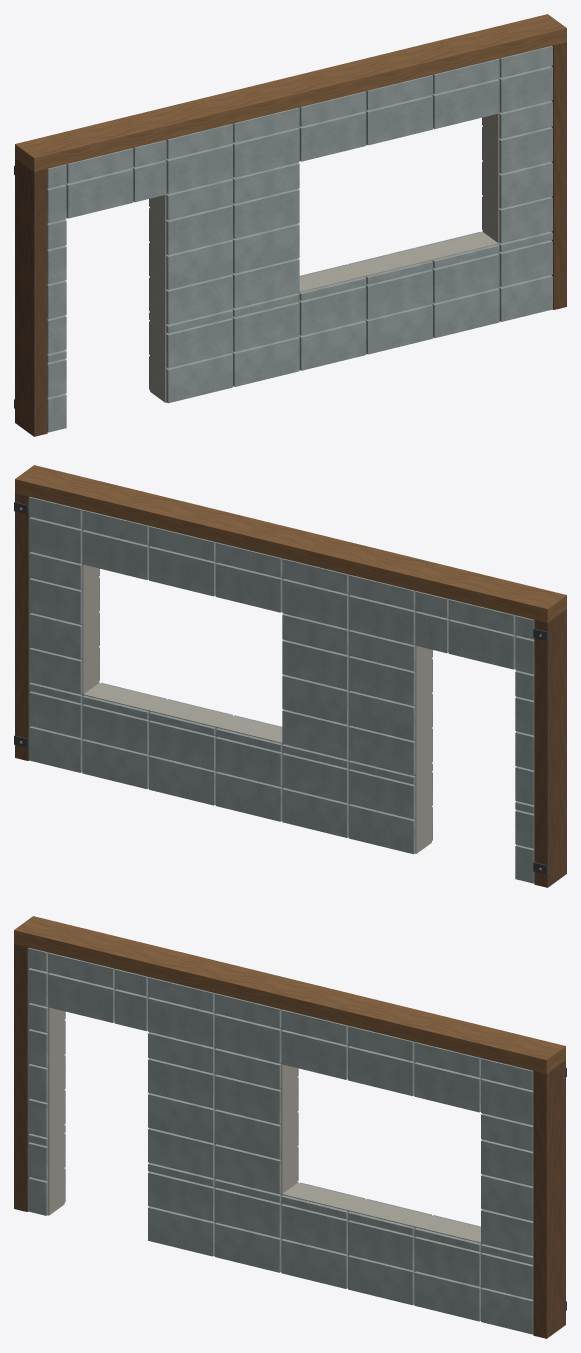
3 renders of one model, top to bottom at view 1: azimuth 30°, elevation 25°; view 2: azimuth 150°, elevation 25°; view 3: azimuth 330°, elevation 25°, orthographic.
Parts seen in each view (by area): view 1: 共享墙面用途 · workshop; view 2: 共享墙面用途 · workshop; view 3: 共享墙面用途 · workshop.
Boxes of the visible parts, x1=… form: 共享墙面用途 · workshop: x1=14, y1=14, x2=566, y2=436; 共享墙面用途 · workshop: x1=14, y1=465, x2=566, y2=887; 共享墙面用途 · workshop: x1=14, y1=916, x2=566, y2=1338.
Bounding box in the file's own units: 6.4 × 3.2 × 0.44.
6 materials, 6 textured.
